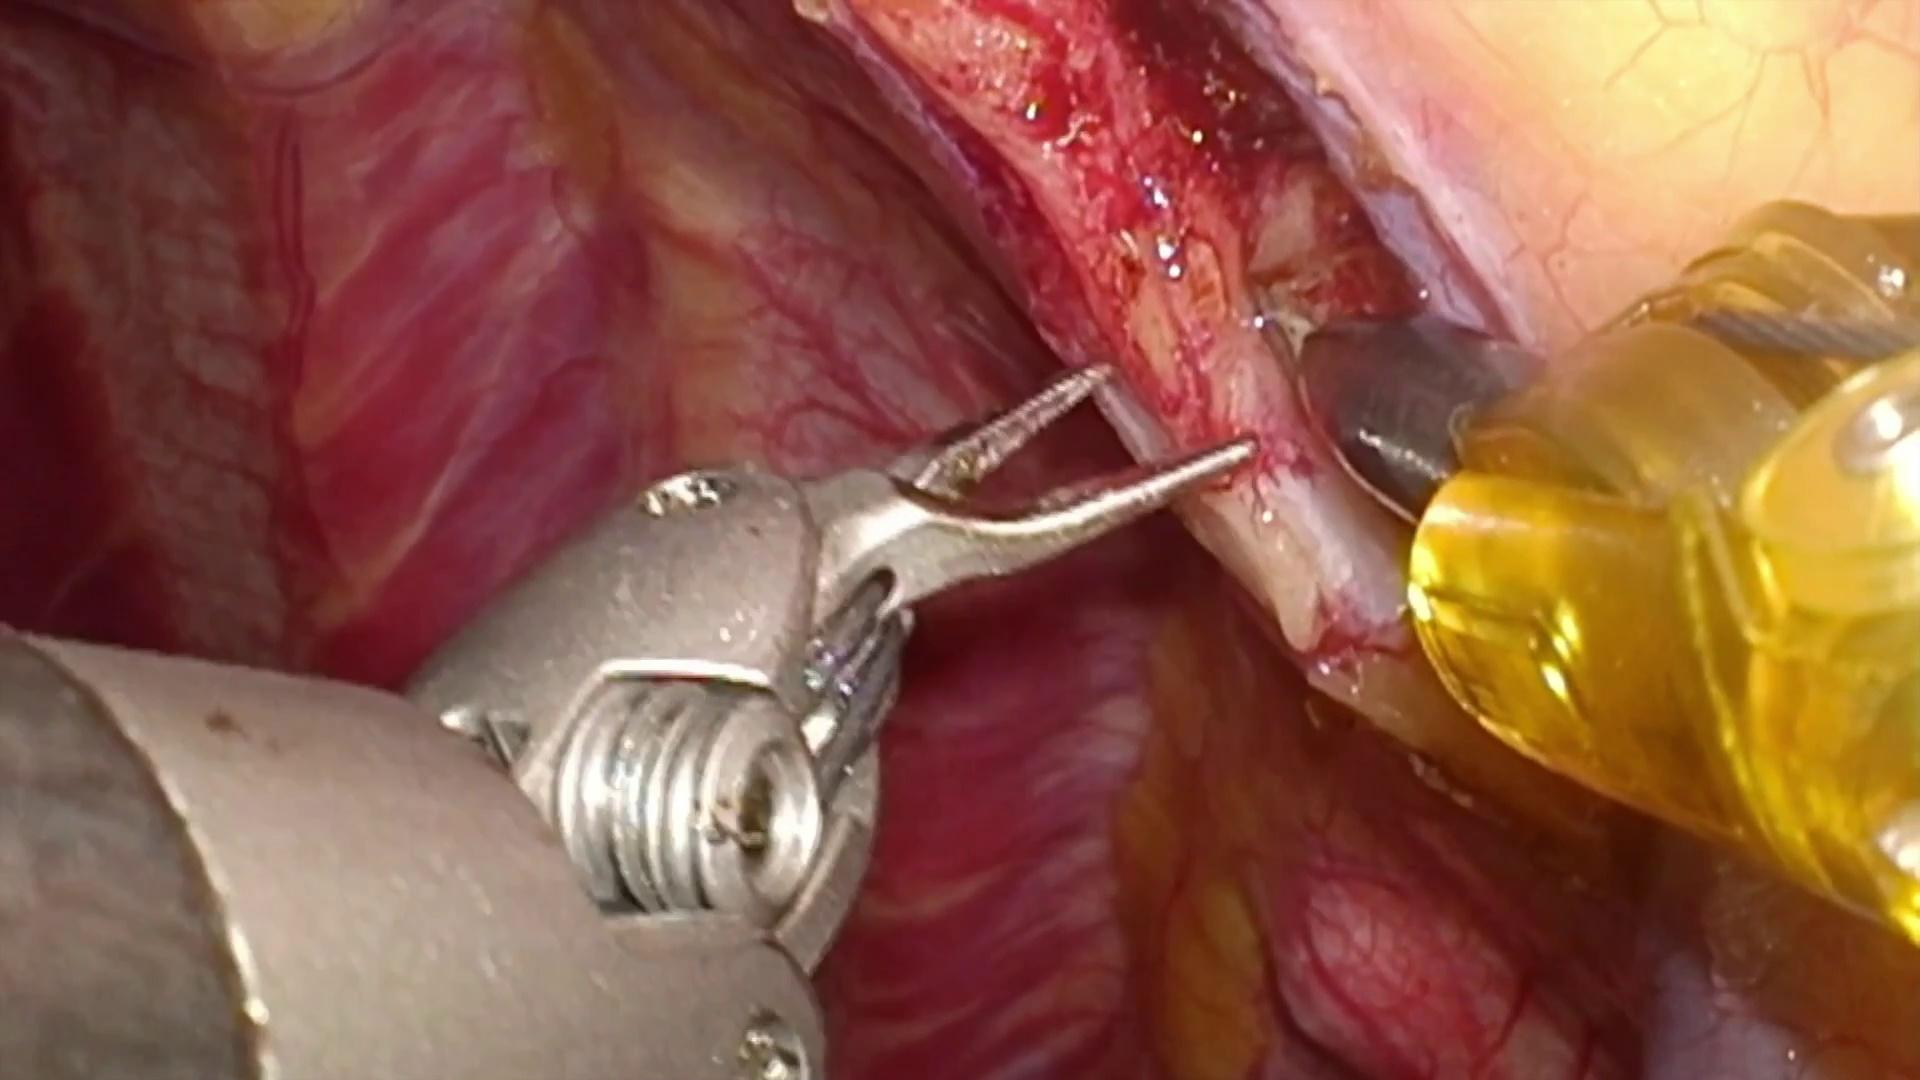Cautery_Spatula: (1258, 290, 1543, 527)
Debakey: (800, 336, 1262, 612)
